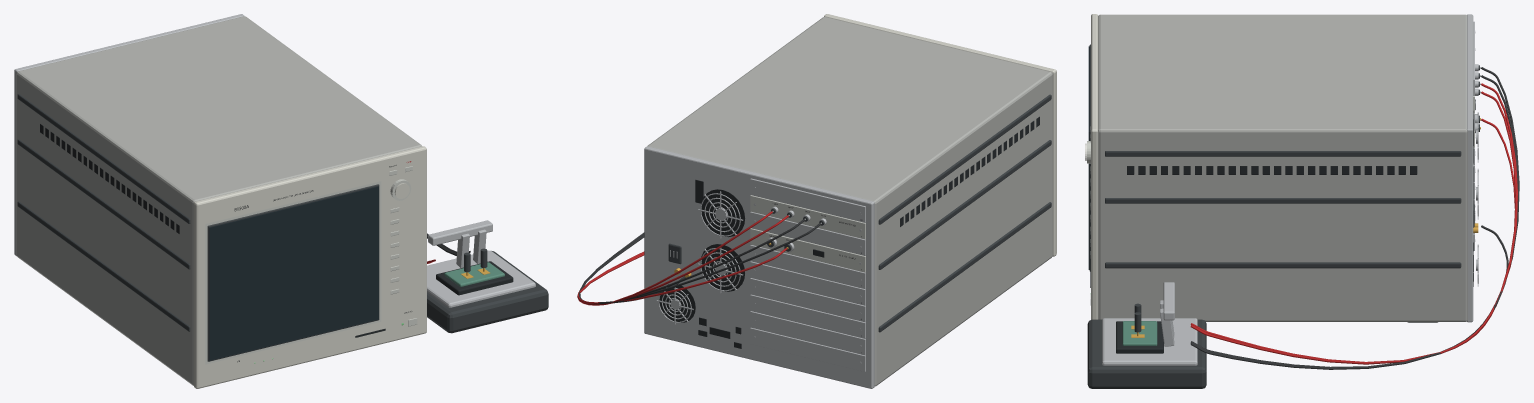
3 views of the same model, side by side, from view 1: azimuth 30°, elevation 25°; view 2: azimuth 150°, elevation 25°; view 3: azimuth 270°, elevation 25° (orthographic). The views are drawn at different scales.
Visible parts, largest first — view 1: chassis, display_panel, Static Warm light grey instrument front, Static Molded charcoal guards and feet, Static Nickel plated fittings, Static Light polymer control caps, Static Exhaust and port recess, Coupon board; view 2: chassis, Static Nickel plated fittings, Static Exhaust and port recess, Static Molded charcoal guards and feet, Static Light polymer control caps, Static Warm light grey instrument front, CMU HCUR, CMU LCUR, CMU LPOT, CMU HPOT, SMU Force; view 3: chassis, Static Molded charcoal guards and feet, Static Nickel plated fittings, Static Exhaust and port recess, Static Warm light grey instrument front, SMU Force, CMU LPOT, CMU HCUR, Coupon board, CMU LCUR, CMU HPOT, SMU Common (+1 smaller).
Part boxes in pixels (x1,y1,x2,y2): chassis: (16, 16, 421, 385); display_panel: (209, 186, 378, 360); Static Warm light grey instrument front: (194, 146, 426, 388); Static Molded charcoal guards and feet: (17, 94, 548, 361); Static Nickel plated fittings: (14, 14, 535, 307); Static Light polymer control caps: (205, 181, 399, 364); Static Exhaust and port recess: (40, 124, 513, 337); Coupon board: (444, 262, 504, 286); chassis: (647, 17, 1052, 386); Static Nickel plated fittings: (644, 146, 874, 388); Static Exhaust and port recess: (659, 116, 1039, 348); Static Molded charcoal guards and feet: (668, 94, 1051, 332); Static Light polymer control caps: (750, 195, 865, 272); Static Warm light grey instrument front: (824, 14, 1056, 256); CMU HCUR: (578, 211, 772, 305); CMU LCUR: (579, 223, 821, 303); CMU LPOT: (579, 219, 804, 300); CMU HPOT: (582, 215, 788, 304); SMU Force: (577, 248, 787, 303); chassis: (1098, 14, 1467, 321); Static Molded charcoal guards and feet: (1087, 44, 1479, 388); Static Nickel plated fittings: (1102, 14, 1480, 365); Static Exhaust and port recess: (1090, 99, 1475, 353); Static Warm light grey instrument front: (1085, 14, 1098, 319); SMU Force: (1190, 118, 1515, 364); CMU LPOT: (1190, 75, 1518, 369); CMU HCUR: (1190, 91, 1517, 362); Coupon board: (1122, 321, 1157, 345); CMU LCUR: (1190, 67, 1519, 367); CMU HPOT: (1191, 83, 1517, 362); SMU Common: (1190, 225, 1508, 367).
Size of the model in its own units: 0.6359 by 0.33 by 0.6524.
